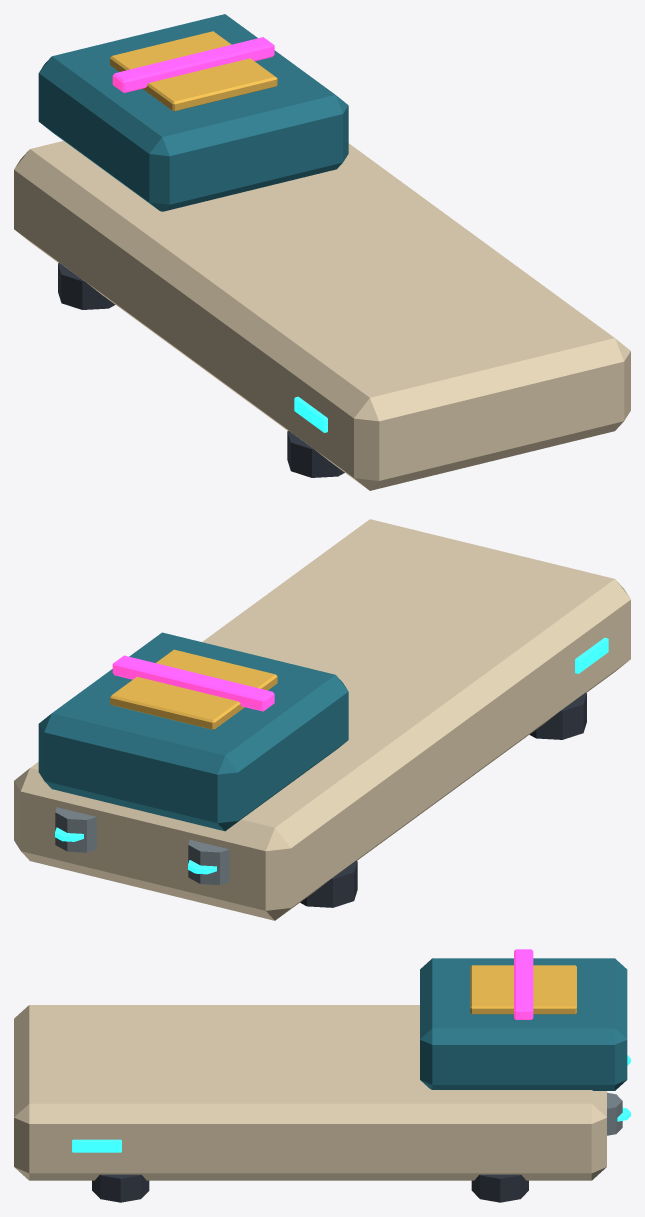
Rendered from vehicles_009_seed100.glb.
The picture shows the model from 3 angles, top to bottom: view 1: azimuth 30°, elevation 25°; view 2: azimuth 150°, elevation 25°; view 3: azimuth 270°, elevation 25°; orthographic projection. The views are drawn at different scales.
Parts seen in each view (by area): view 1: vehicles_009_seed100; view 2: vehicles_009_seed100; view 3: vehicles_009_seed100.
Boxes of the visible parts, left/top/right/bottom form: vehicles_009_seed100: left=14, top=14, right=630, bottom=490; vehicles_009_seed100: left=14, top=519, right=630, bottom=920; vehicles_009_seed100: left=14, top=949, right=630, bottom=1202.
Size of the model in its own units: 2.34 by 1.55 by 5.17.
